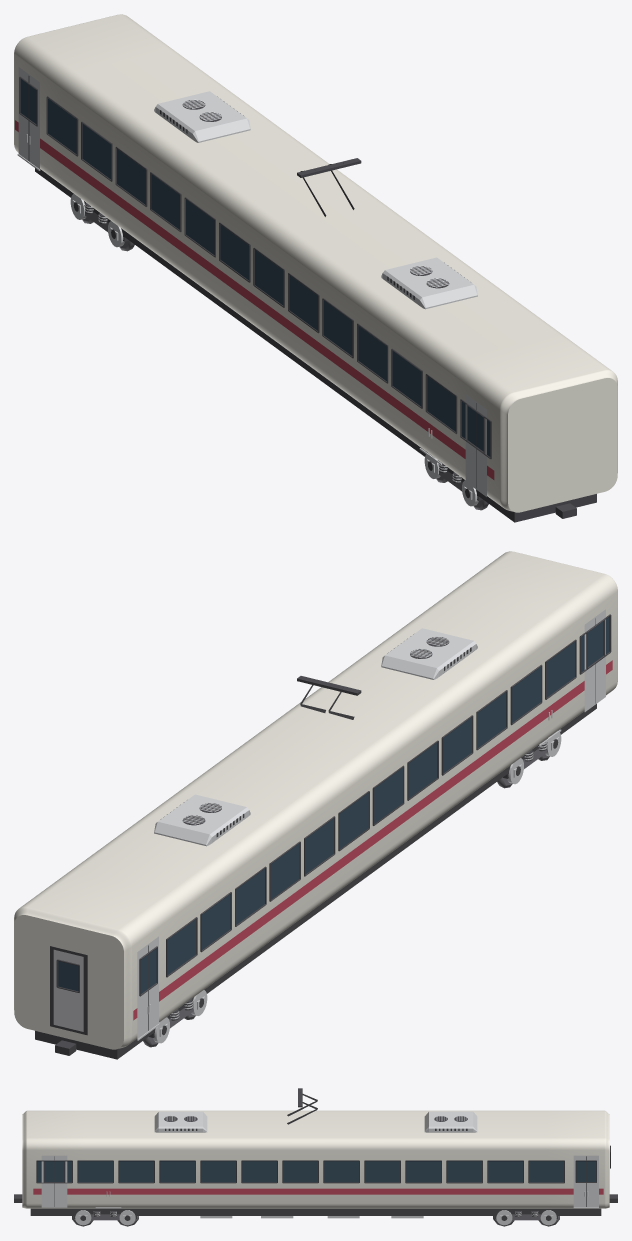
Rendered from middle_close.fbx.
3 renders of one model, top to bottom at view 1: azimuth 30°, elevation 25°; view 2: azimuth 150°, elevation 25°; view 3: azimuth 270°, elevation 25°, orthographic. The views are drawn at different scales.
Parts seen in each view (by area): view 1: 21_middle_close; view 2: 21_middle_close; view 3: 21_middle_close.
Boxes of the visible parts, x1,y1,x2,y2 form: 21_middle_close: (14, 14, 617, 522); 21_middle_close: (14, 551, 617, 1059); 21_middle_close: (14, 1088, 617, 1226).
Size of the model in its own units: 3.01 by 4.77 by 21.8.
